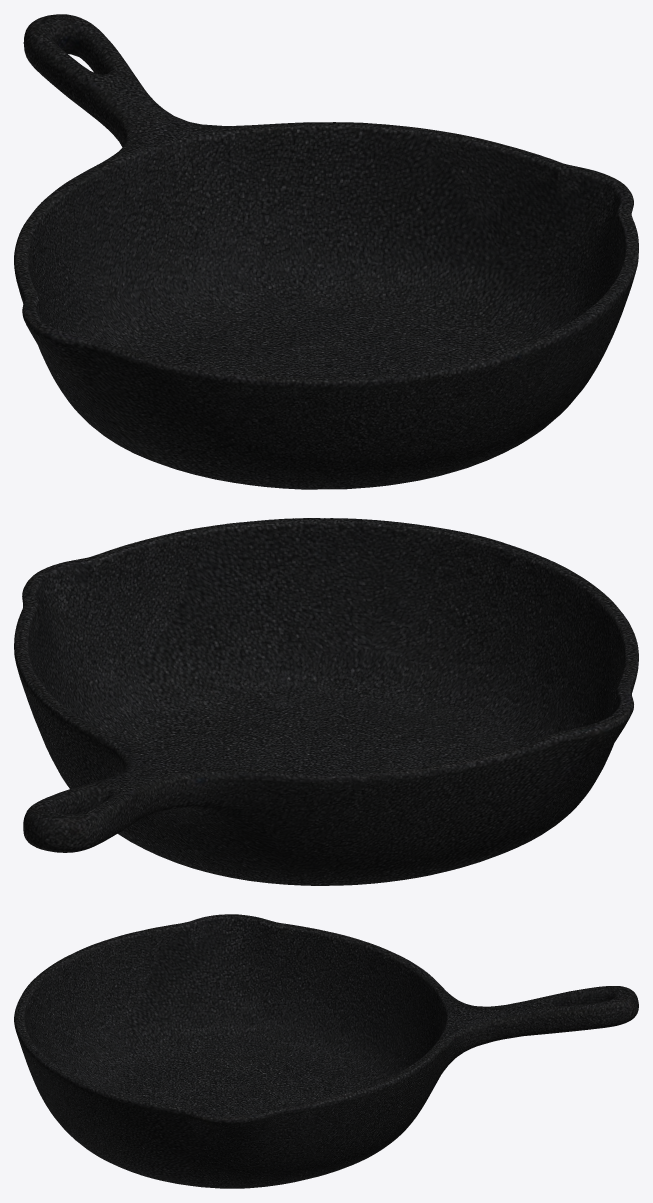
The model's file is fry-pan.glb.
The picture shows the model from 3 angles, top to bottom: view 1: azimuth 30°, elevation 25°; view 2: azimuth 150°, elevation 25°; view 3: azimuth 270°, elevation 25°; orthographic projection. The views are drawn at different scales.
Visible parts, largest first — view 1: mesh; view 2: mesh; view 3: mesh.
Boxes of the visible parts, <box> form: mesh: <box>14,14,638,489</box>; mesh: <box>14,518,638,885</box>; mesh: <box>14,914,638,1188</box>.
Size of the model in its own units: 1.56 by 0.4753 by 2.
1 material, 1 textured.
